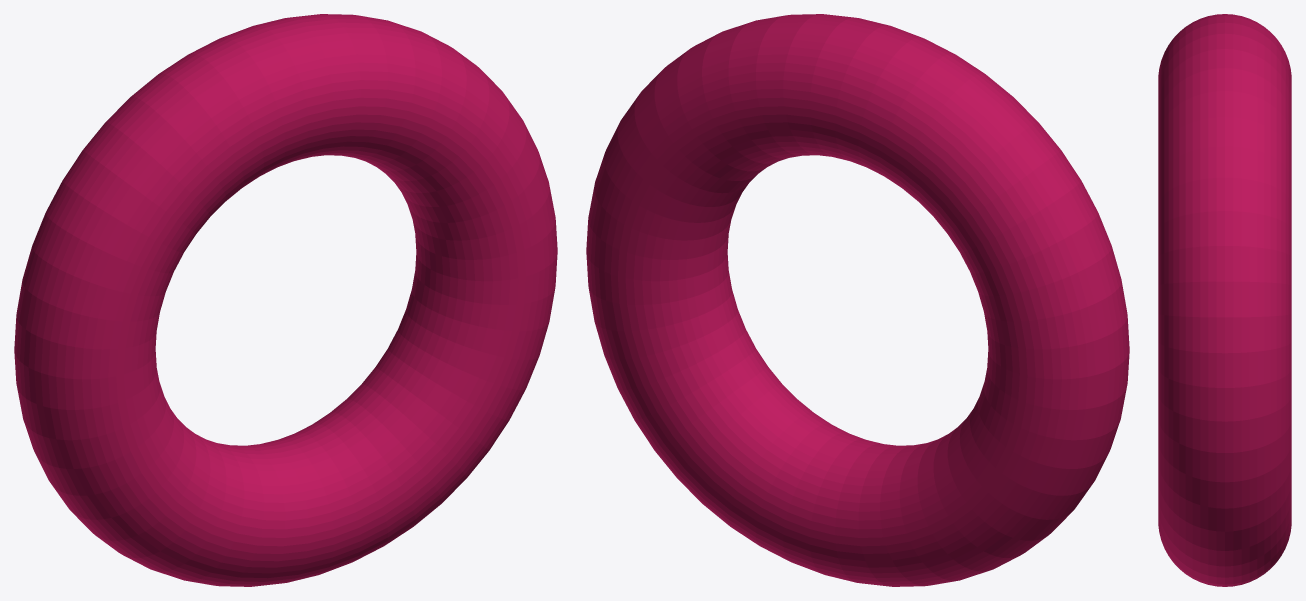
3 renders of one model, left to right at view 1: azimuth 30°, elevation 25°; view 2: azimuth 150°, elevation 25°; view 3: azimuth 270°, elevation 25°, orthographic. The views are drawn at different scales.
Parts seen in each view (by area): view 1: world; view 2: world; view 3: world.
Boxes of the visible parts, left/top/right/bottom form: world: left=14, top=14, right=557, bottom=586; world: left=586, top=14, right=1129, bottom=586; world: left=1158, top=14, right=1291, bottom=586.
Size of the model in its own units: 38.27 by 38.19 by 8.92.
